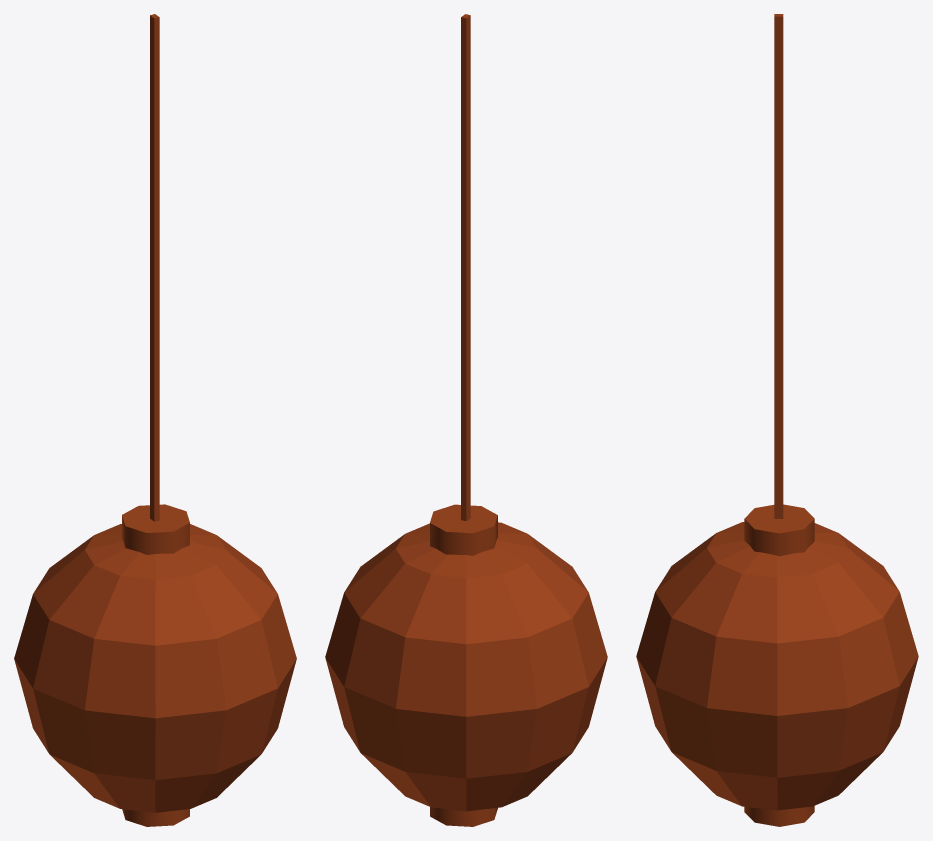
Rendered from SM_lantern_ramen_01.fbx.
The picture shows the model from 3 angles, left to right: view 1: azimuth 30°, elevation 25°; view 2: azimuth 150°, elevation 25°; view 3: azimuth 270°, elevation 25°; orthographic projection.
Visible parts, largest first — view 1: Sphere007; view 2: Sphere007; view 3: Sphere007.
Boxes of the visible parts, left/top/right/bottom form: Sphere007: left=14, top=14, right=296, bottom=826; Sphere007: left=325, top=14, right=607, bottom=826; Sphere007: left=636, top=14, right=918, bottom=826.
Bounding box in the file's own units: 18.08 × 18.08 × 56.21.
